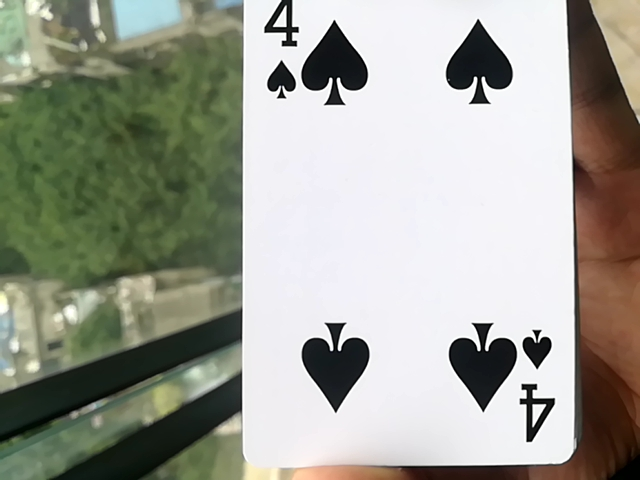ht 4: (231, 10, 588, 474)
